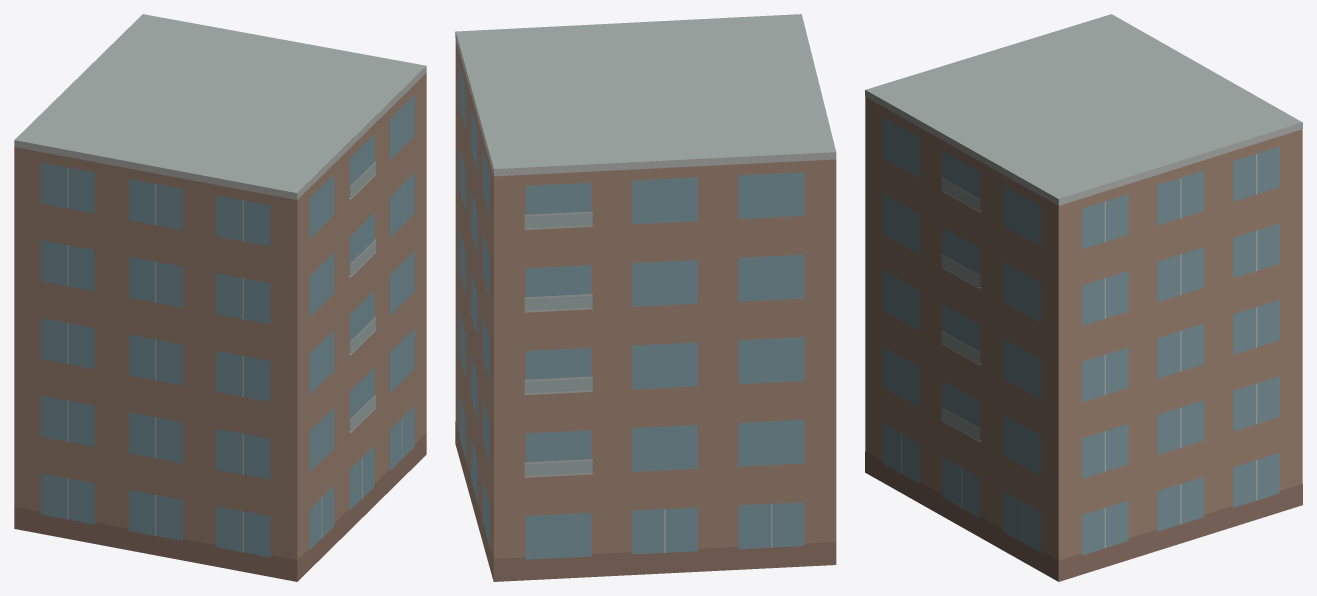
Rendered from survey-upis-32584864.glb.
3 views of the same model, side by side, from view 1: azimuth 30°, elevation 25°; view 2: azimuth 150°, elevation 25°; view 3: azimuth 270°, elevation 25° (orthographic). The views are drawn at different scales.
Parts seen in each view (by area): view 1: survey-upis-32584864.tmp; view 2: survey-upis-32584864.tmp; view 3: survey-upis-32584864.tmp.
Boxes of the visible parts, x1,y1,x2,y2 form: survey-upis-32584864.tmp: [14, 14, 426, 581]; survey-upis-32584864.tmp: [455, 14, 836, 581]; survey-upis-32584864.tmp: [865, 14, 1302, 581].
Bounding box in the file's own units: 14.33 × 13.8 × 14.31.
